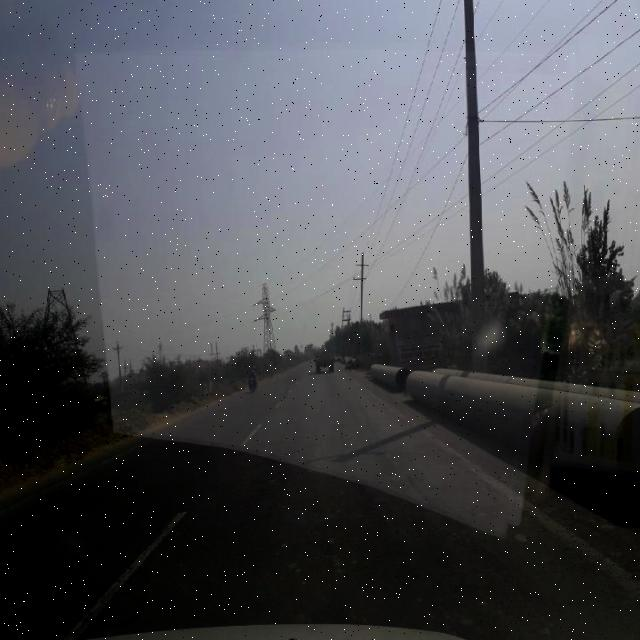D44: (47, 502, 186, 636)
